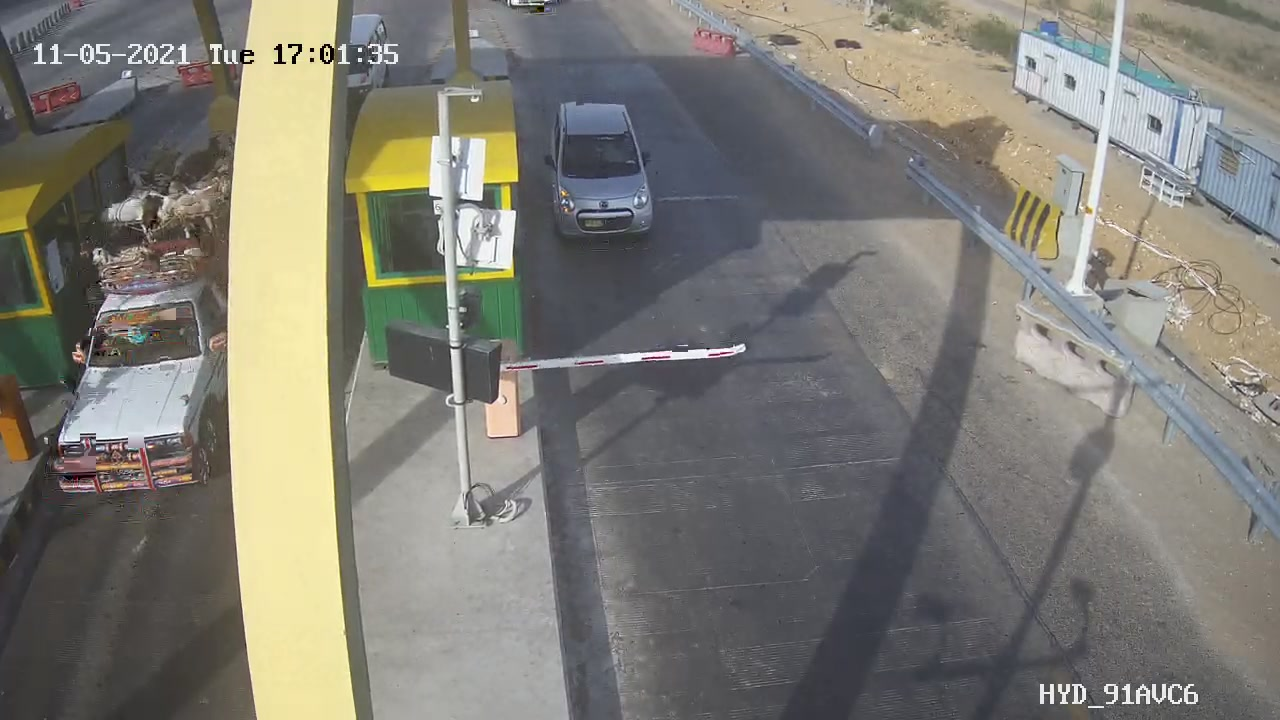F1: (530, 85, 681, 261)
